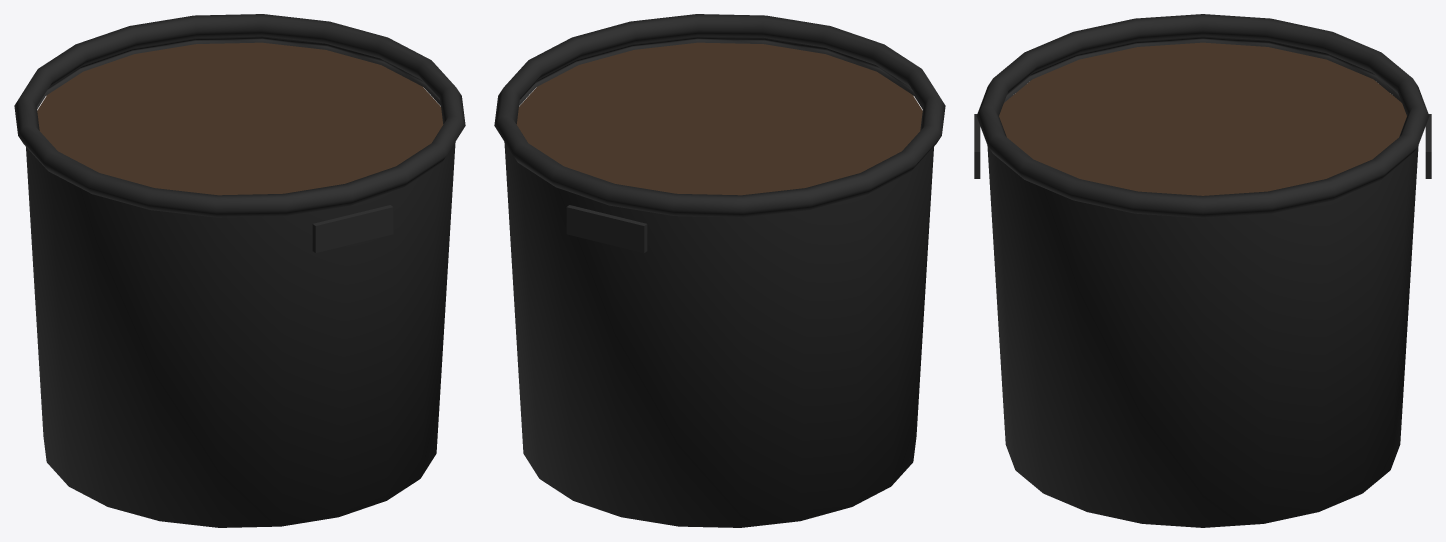
File: pot-family--5gal.glb
3 renders of one model, left to right at view 1: azimuth 30°, elevation 25°; view 2: azimuth 150°, elevation 25°; view 3: azimuth 270°, elevation 25°, orthographic.
Visible parts, largest first — view 1: pot_body, soil_surface, pot_rim, pot_handles; view 2: pot_body, soil_surface, pot_rim, pot_handles; view 3: pot_body, soil_surface, pot_rim, pot_handles.
Boxes of the visible parts, x1,y1,x2,y2 form: pot_body: [26, 36, 455, 527]; soil_surface: [37, 42, 443, 195]; pot_rim: [14, 14, 465, 217]; pot_handles: [312, 205, 393, 252]; pot_body: [504, 36, 933, 527]; soil_surface: [516, 42, 922, 195]; pot_rim: [494, 14, 945, 217]; pot_handles: [566, 205, 647, 252]; pot_body: [987, 36, 1418, 527]; soil_surface: [999, 42, 1406, 195]; pot_rim: [976, 14, 1429, 218]; pot_handles: [974, 114, 1431, 178].
Bounding box in the file's own units: 0.303 × 0.249 × 0.306.
